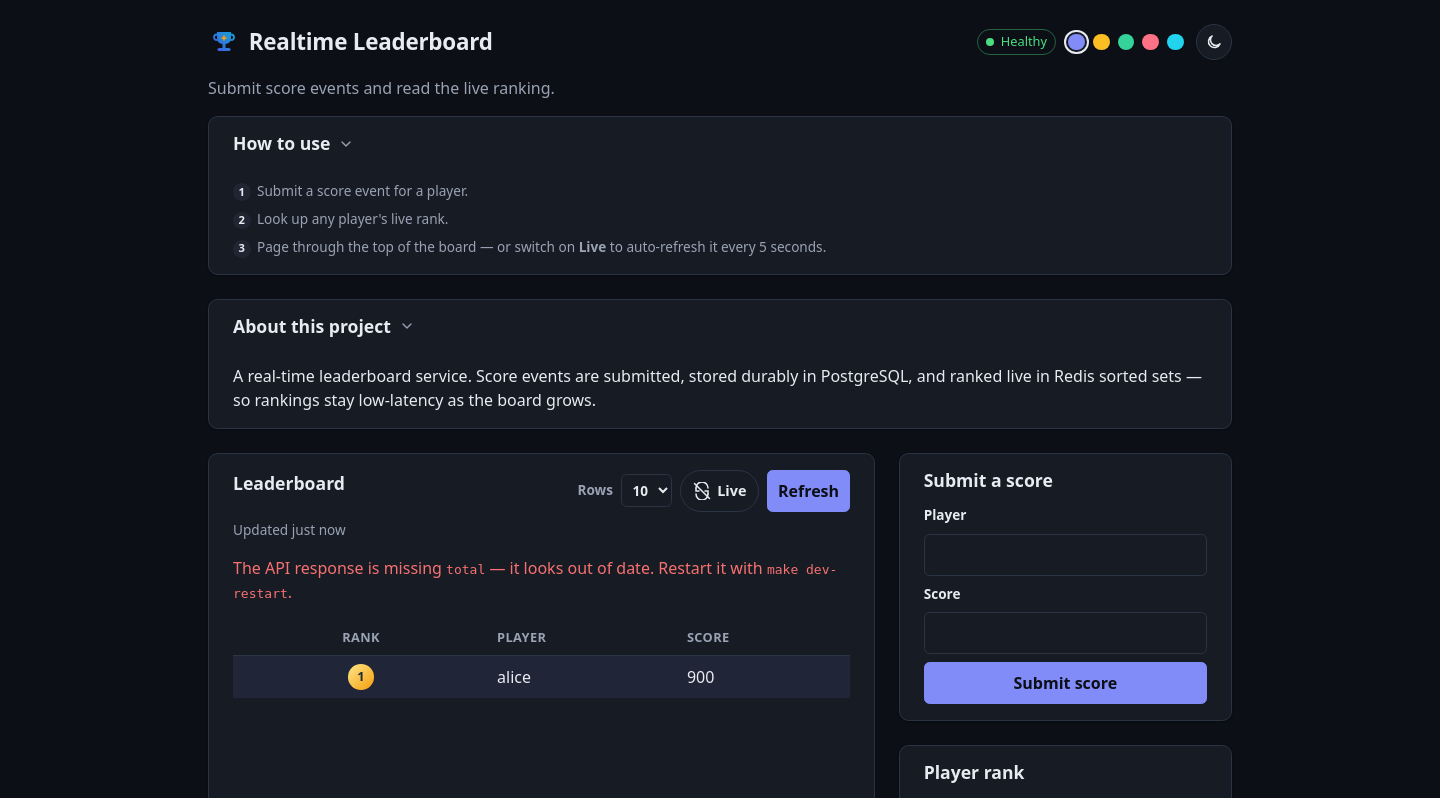
Test: App › refreshes the board after a score is submitted
The image size is (1440, 798).
Expected: the text "alice" is shown, [489, 656, 679, 698]
# Both panels label an input "Player", so scope the query to the form.
Type "carol" into the dropdown labelled "Player" at x=1065, y=555, box [924, 534, 1207, 576]
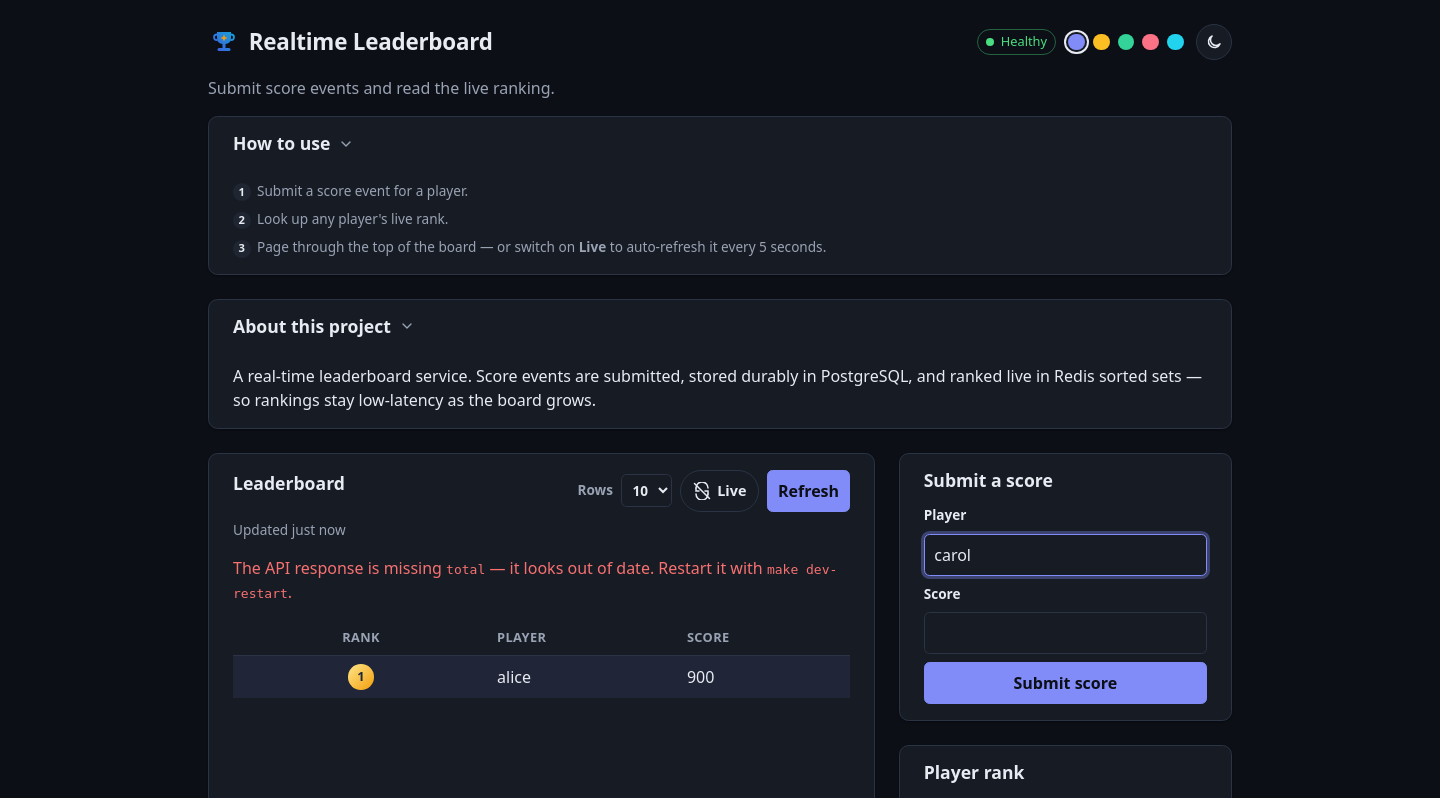
Type "950" into the number field labelled "Score" at x=1065, y=633, box [924, 612, 1207, 654]
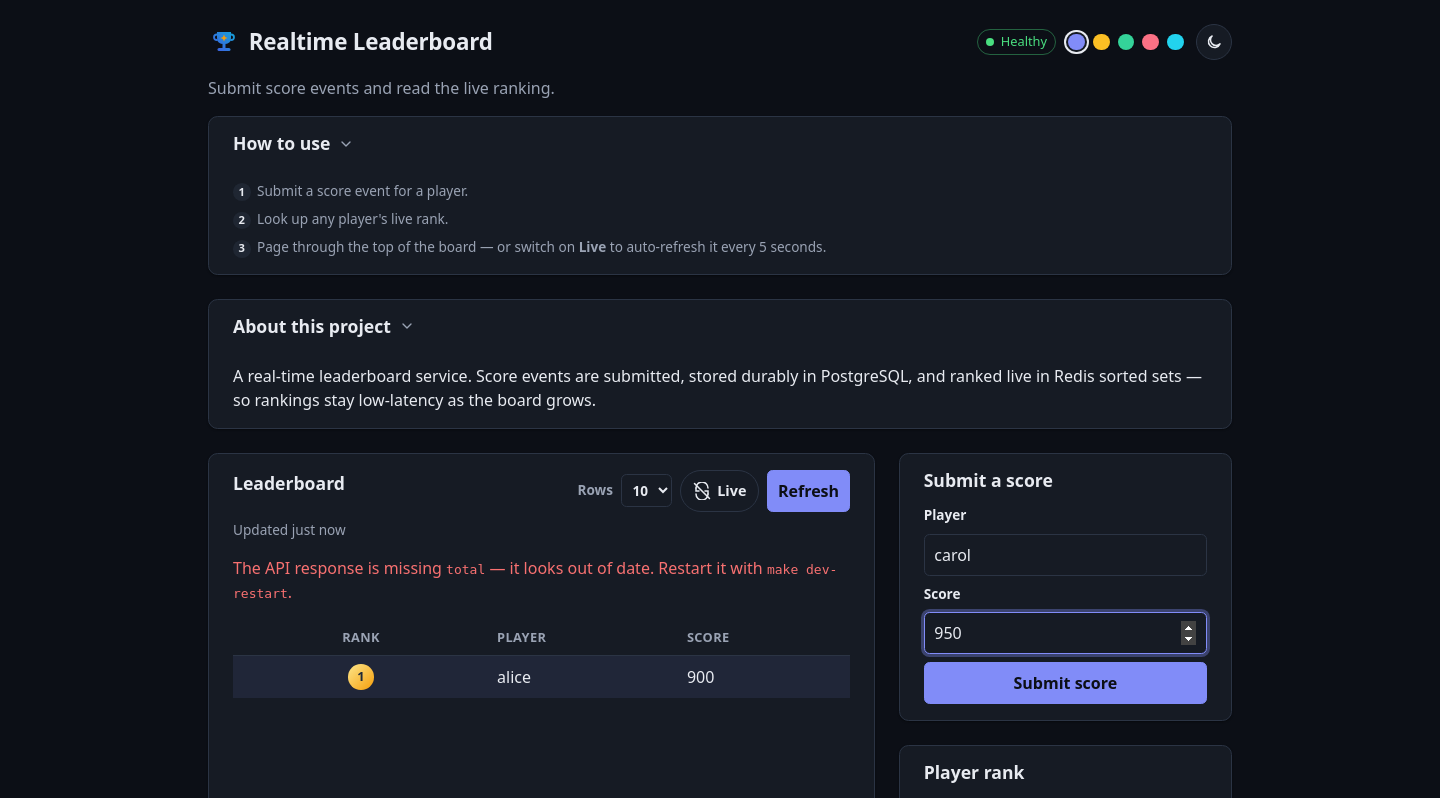
Click the button "Submit score" at x=1065, y=683, box [924, 662, 1207, 704]
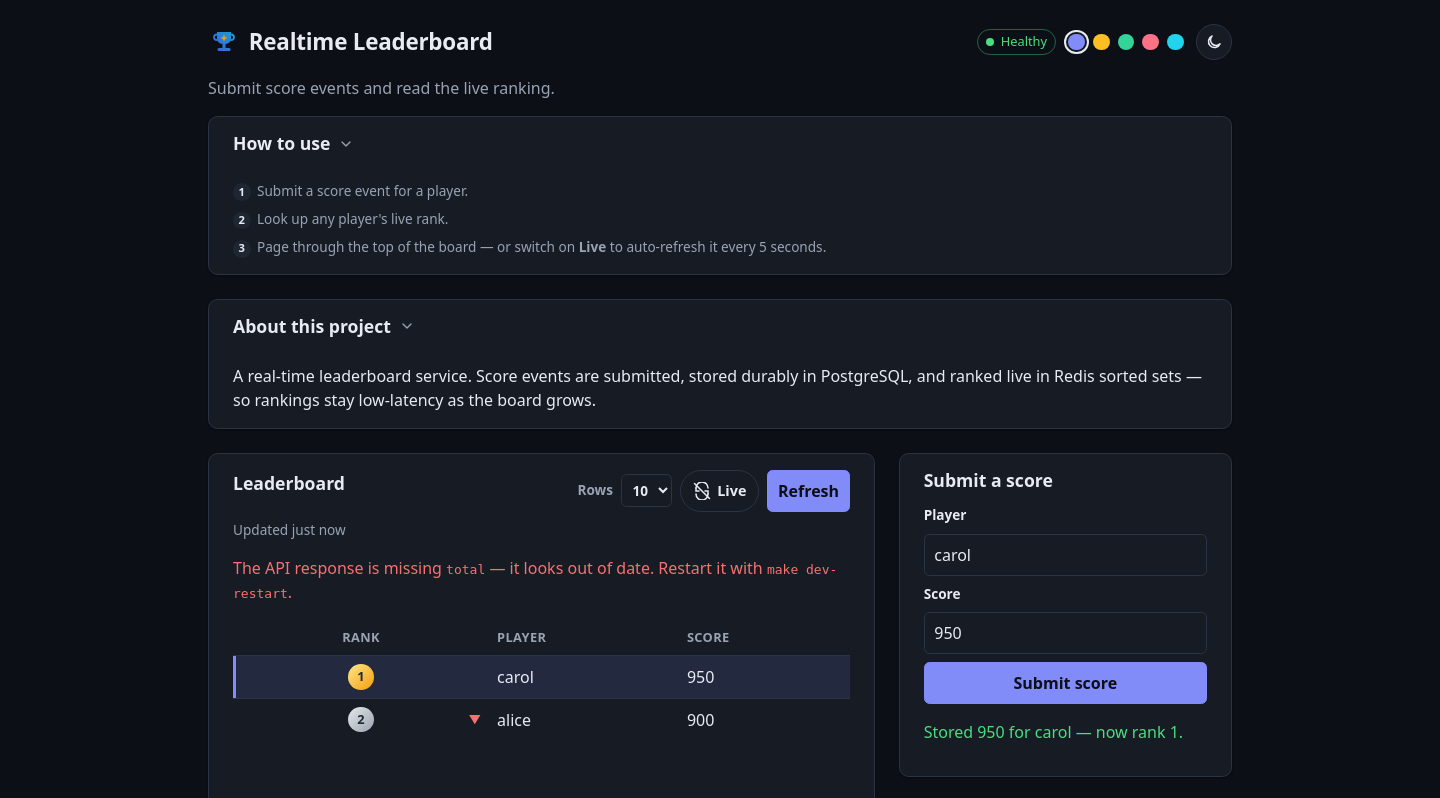
Expected: the text "Stored 950 for carol — now rank 1." is shown, [924, 720, 1207, 744]
Expected: the text "carol" is shown, [489, 656, 679, 698]
